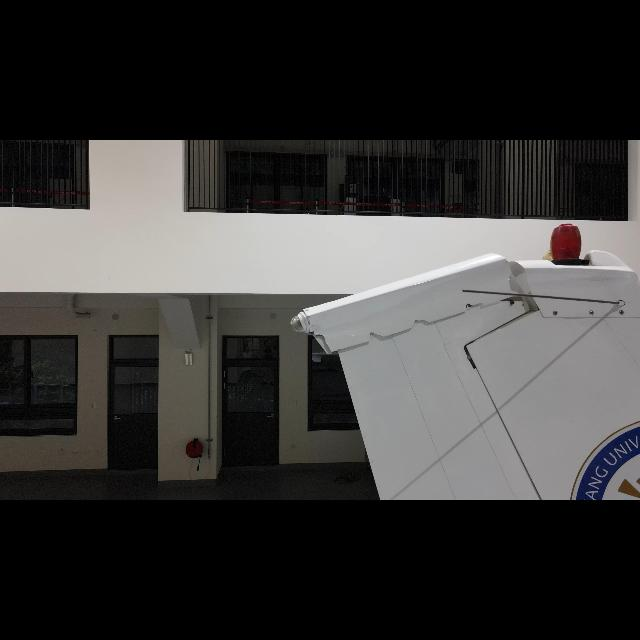Missing Fastener: (506, 276, 512, 282), (520, 302, 526, 308)
